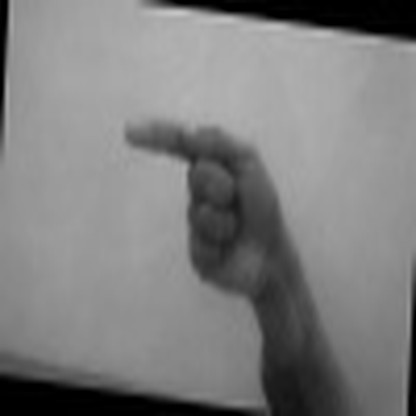g: (119, 110, 284, 296)
